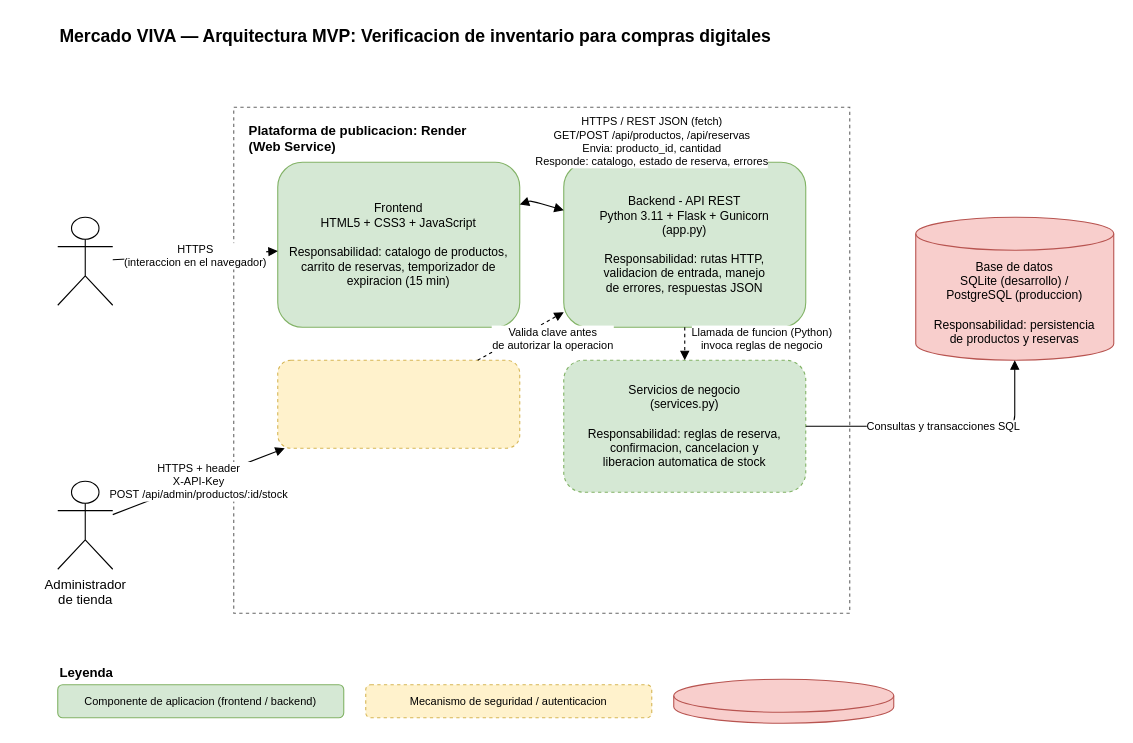
This 1133x743 diagram has some shape labels left out. Each missing label, with the centre of its shape:
"Almacenamiento de datos" belongs at pixel 783 700.
"Autenticacion basica Header X-API-Key (protege endpoints de admin)" belongs at pixel 398 403.
"Cliente (navegador web / app)" belongs at pixel 85 260.
